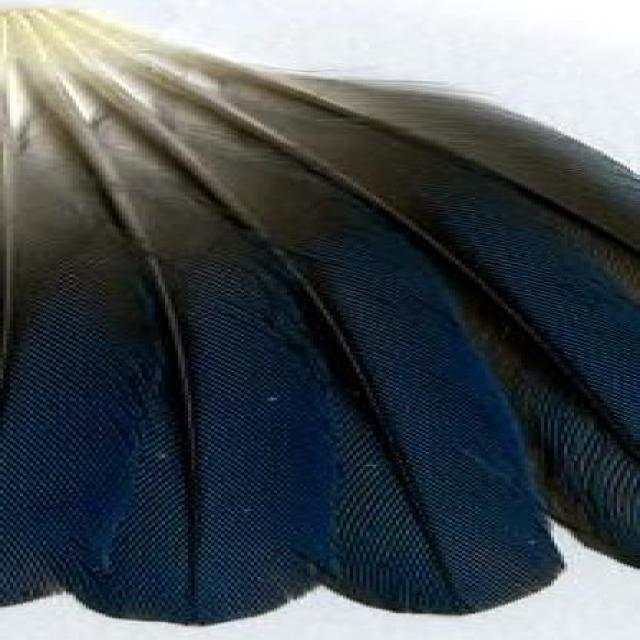feather: (18, 9, 580, 615), (0, 6, 323, 628)
